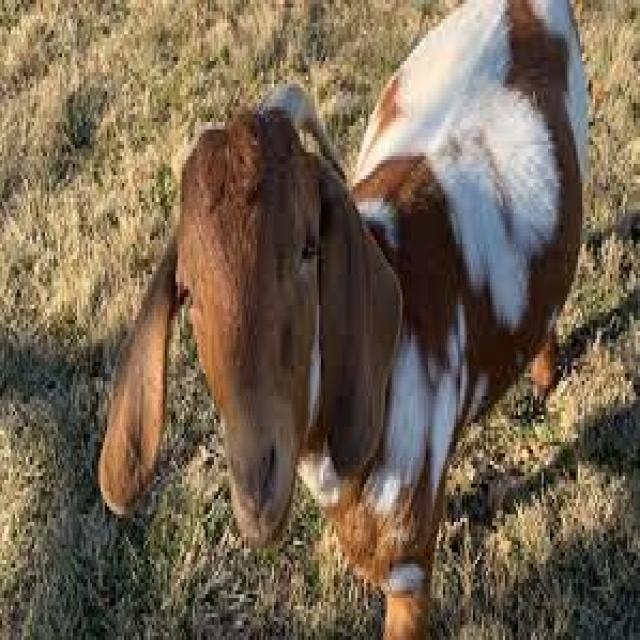Goat: (100, 0, 590, 640)
